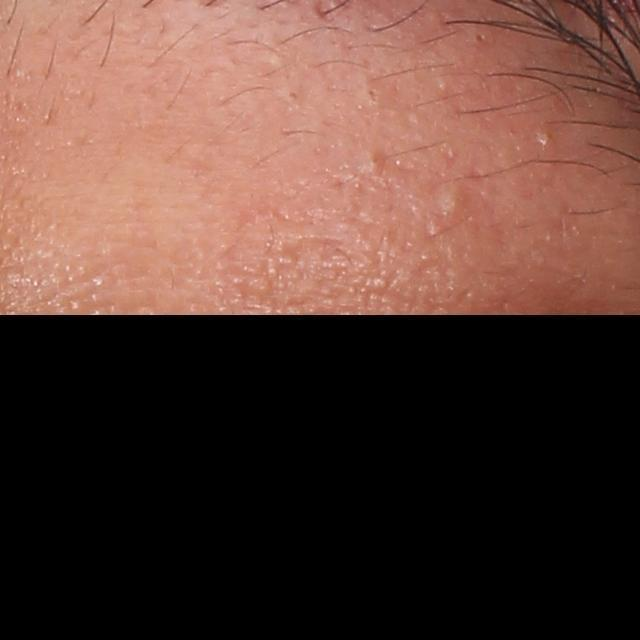comedo: (434, 181, 474, 222), (531, 124, 559, 156)
